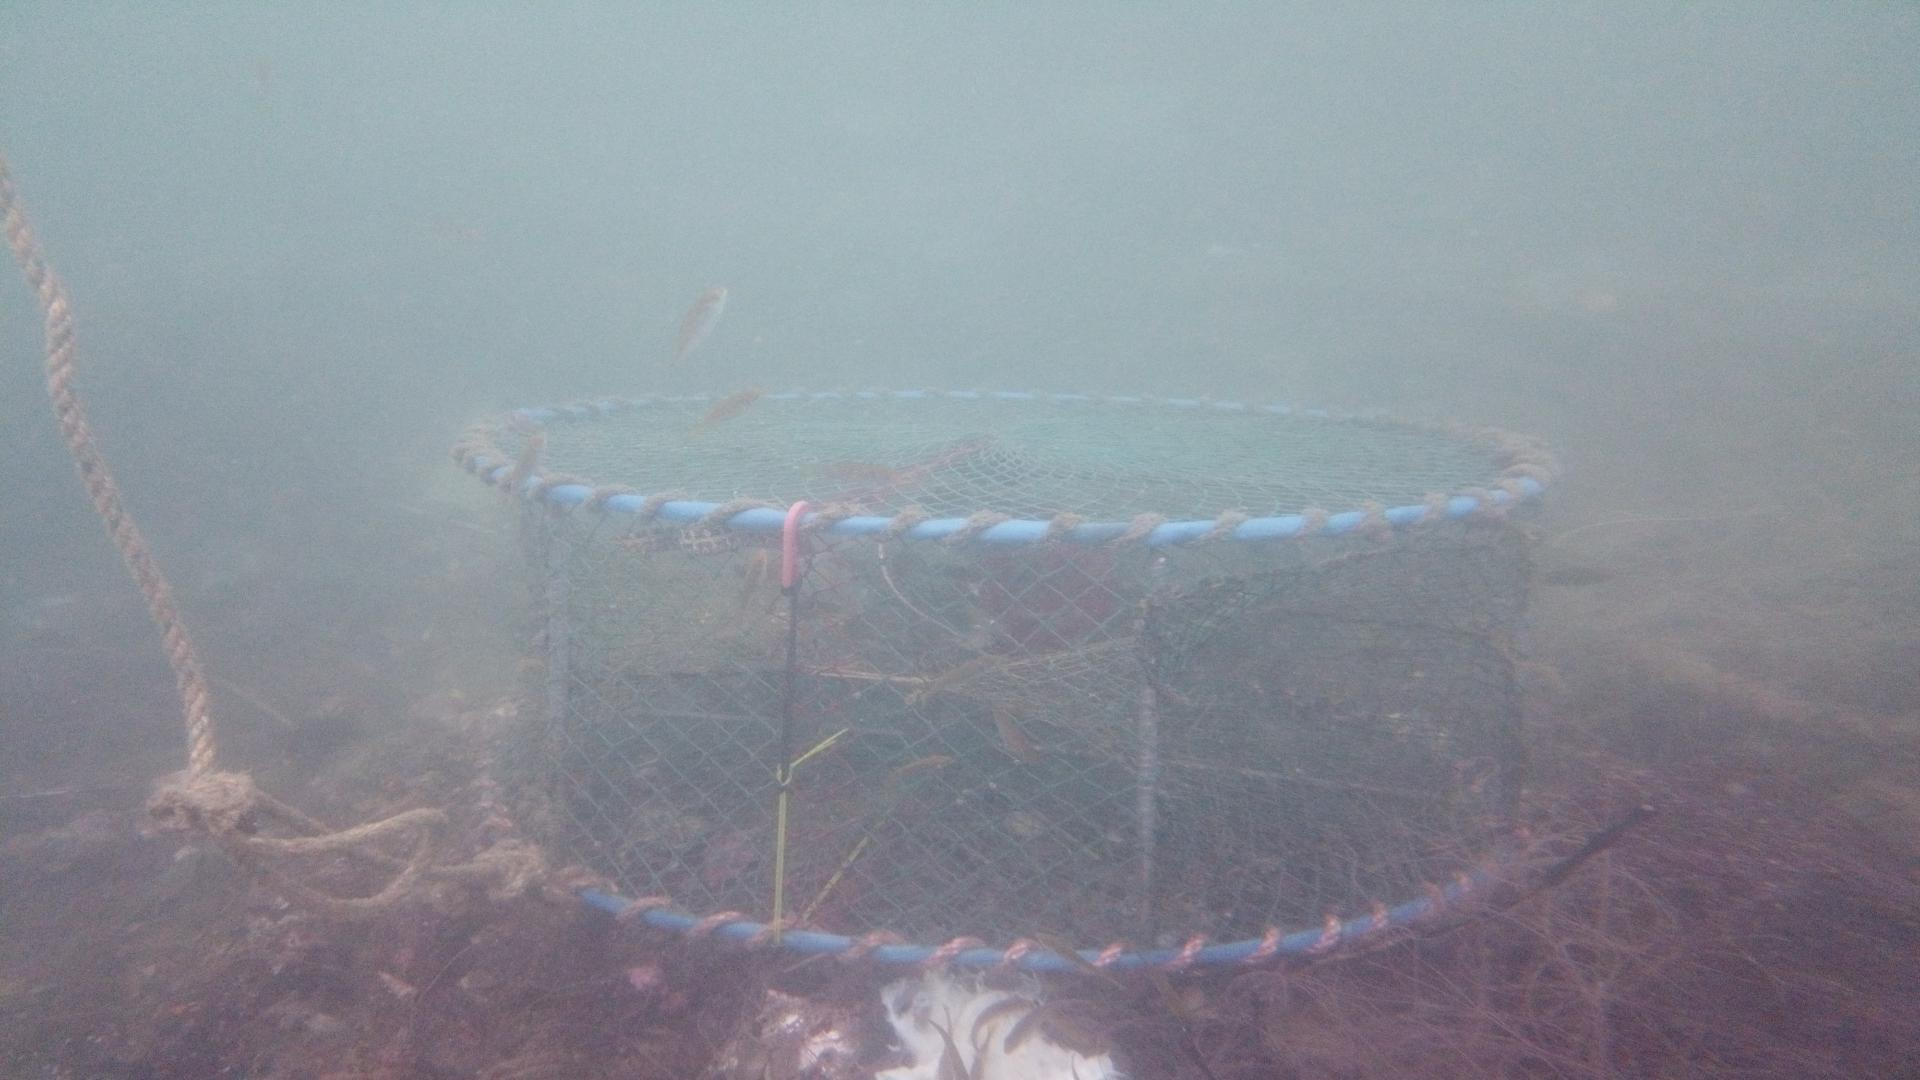bundle of ropes: (0, 162, 539, 919)
circular fish trap: (448, 385, 1557, 976)
